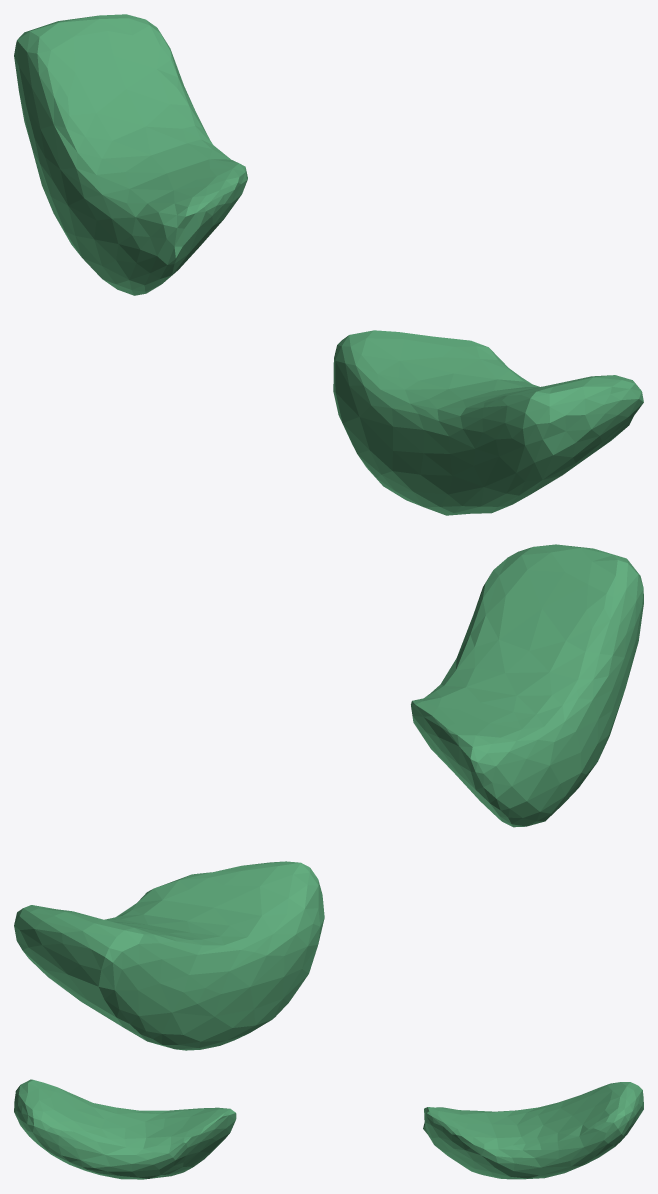
3 renders of one model, top to bottom at view 1: azimuth 30°, elevation 25°; view 2: azimuth 150°, elevation 25°; view 3: azimuth 270°, elevation 25°, orthographic. The views are drawn at different scales.
Parts seen in each view (by area): view 1: 526157192.obj; view 2: 526157192.obj; view 3: 526157192.obj.
Boxes of the visible parts, bbox=[...] form: 526157192.obj: bbox=[14, 14, 643, 515]; 526157192.obj: bbox=[14, 544, 643, 1050]; 526157192.obj: bbox=[14, 1079, 643, 1179].
Size of the model in its own units: 630 by 613 by 3408.
